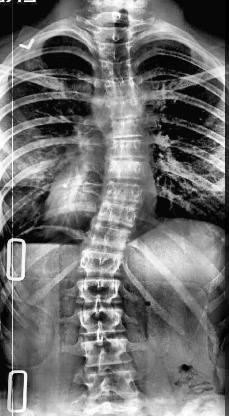Vertebrae: (85, 372, 139, 401), (75, 306, 127, 336), (103, 178, 148, 210), (82, 338, 132, 366), (105, 134, 153, 162), (96, 199, 140, 229), (77, 248, 124, 276), (104, 157, 151, 185), (89, 221, 129, 253), (76, 278, 120, 302), (107, 99, 149, 121), (100, 80, 144, 100), (108, 119, 150, 139), (97, 40, 135, 62), (96, 24, 136, 44), (96, 59, 139, 77)
